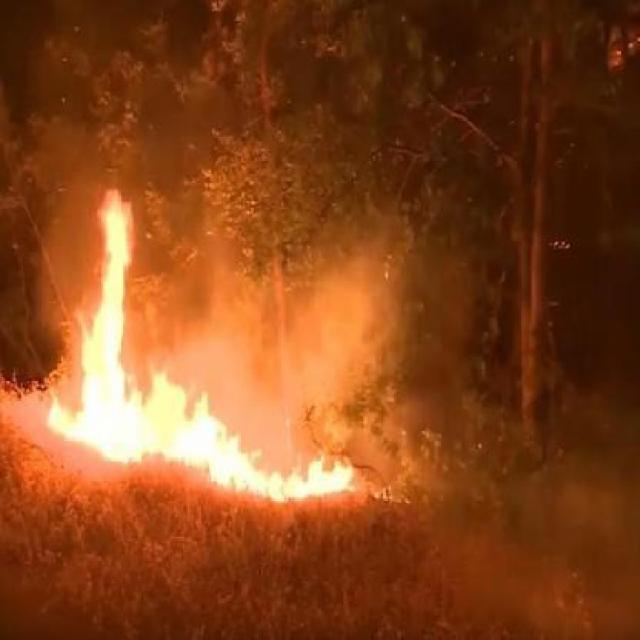Fire: (80, 188, 136, 462), (140, 369, 236, 466), (214, 456, 362, 502), (50, 388, 84, 444)
